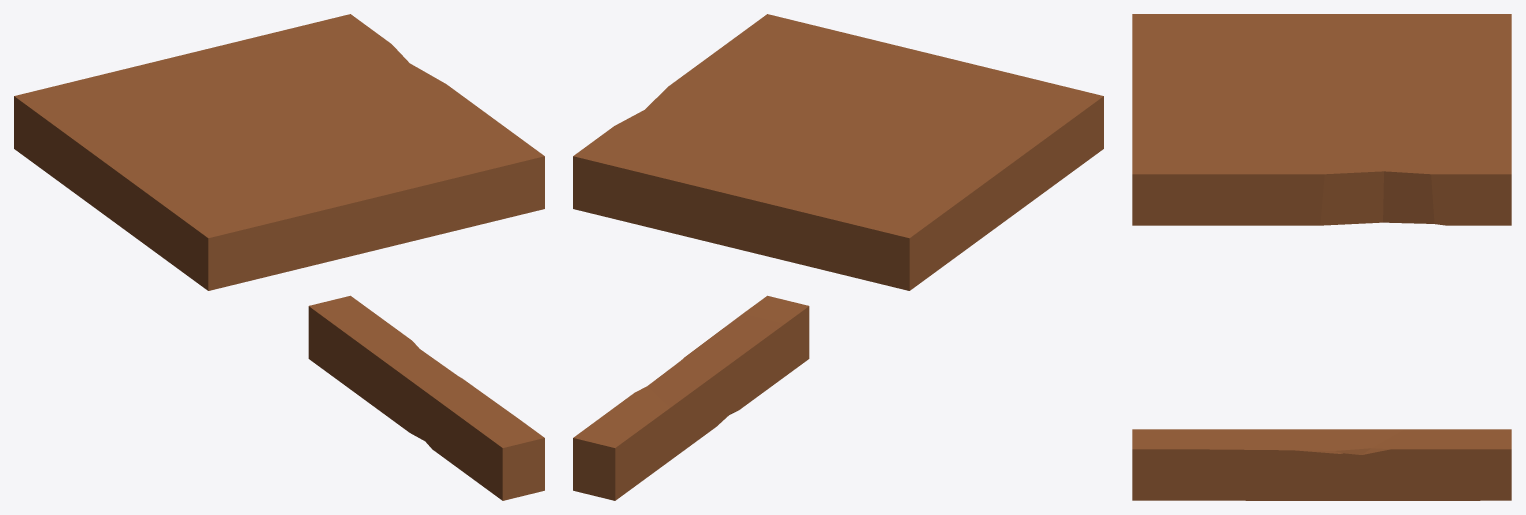
File: Workshop_Counter_Edge.fbx
3 renders of one model, left to right at view 1: azimuth 30°, elevation 25°; view 2: azimuth 150°, elevation 25°; view 3: azimuth 270°, elevation 25°, orthographic. The views are drawn at different scales.
Visible parts, largest first — view 1: Cube; view 2: Cube; view 3: Cube.
Boxes of the visible parts, x1,y1,x2,y2 form: Cube: (14, 14, 544, 500); Cube: (573, 14, 1103, 500); Cube: (1132, 14, 1511, 500).
Bounding box in the file's own units: 200 × 190 × 200.
